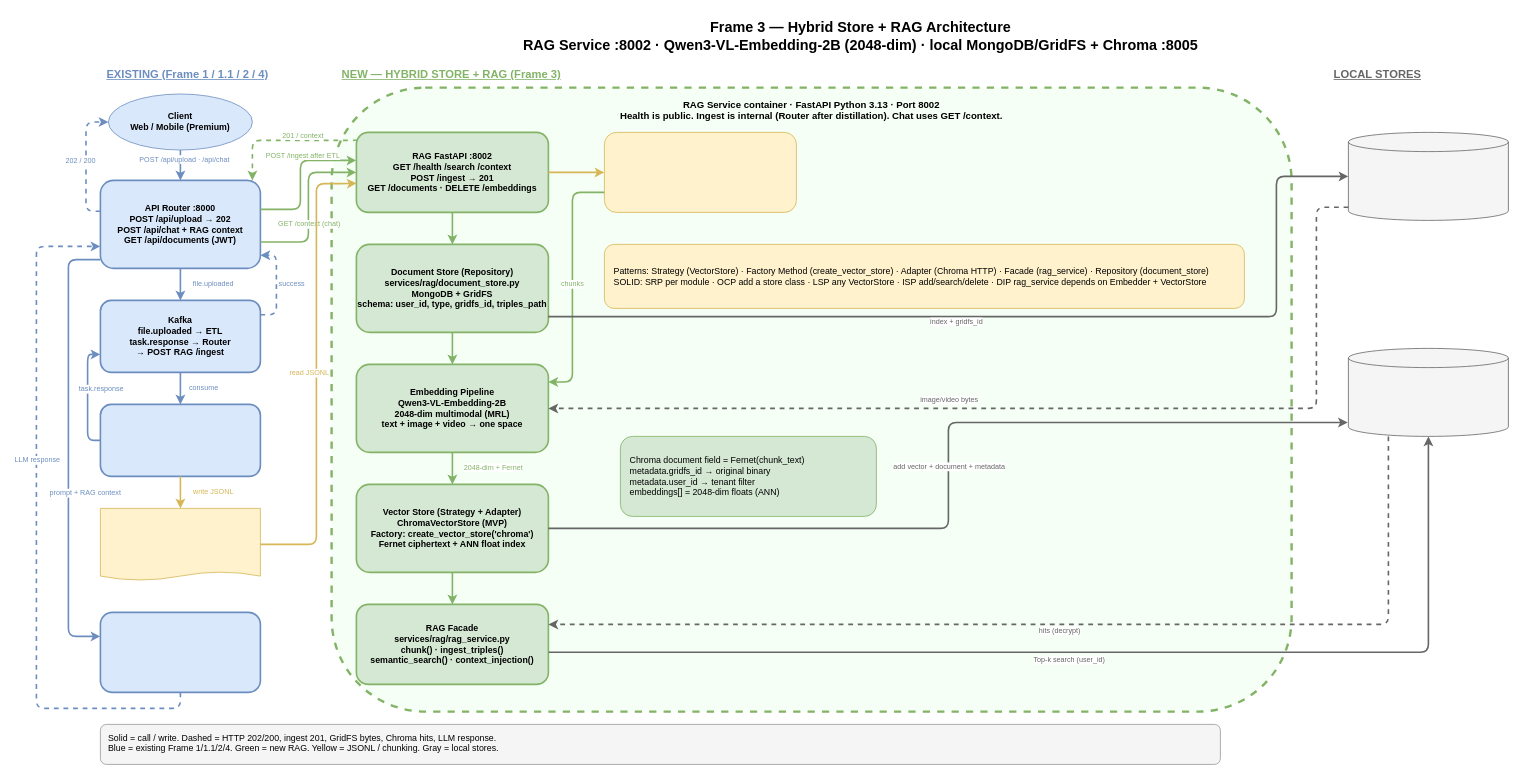
This 1522x778 diagram has some shape labels left out. The box of each missing label's shape, as (x1, y1, x2, y2) in pixels:
Chroma :8005 2048-dim vectors chunk_text + metadata cross-modal collection: (1348, 348, 1508, 436)
ETL Service :8001 LangChain loaders LLM triples → JSONL: (99, 403, 261, 477)
JSONL triples data/triples/{user_id}/ {correlation_id}.jsonl: (100, 508, 260, 580)
LangChain splitter RecursiveCharacterTextSplitter chunk_size=1000 overlap=200: (604, 132, 796, 212)
LLM Service :8003 base Qwen3.5-4B (not fine-tuned) context-augmented chat: (99, 611, 261, 693)
MongoDB :27017 GridFS binaries Documents index per user_id: (1348, 132, 1508, 220)
